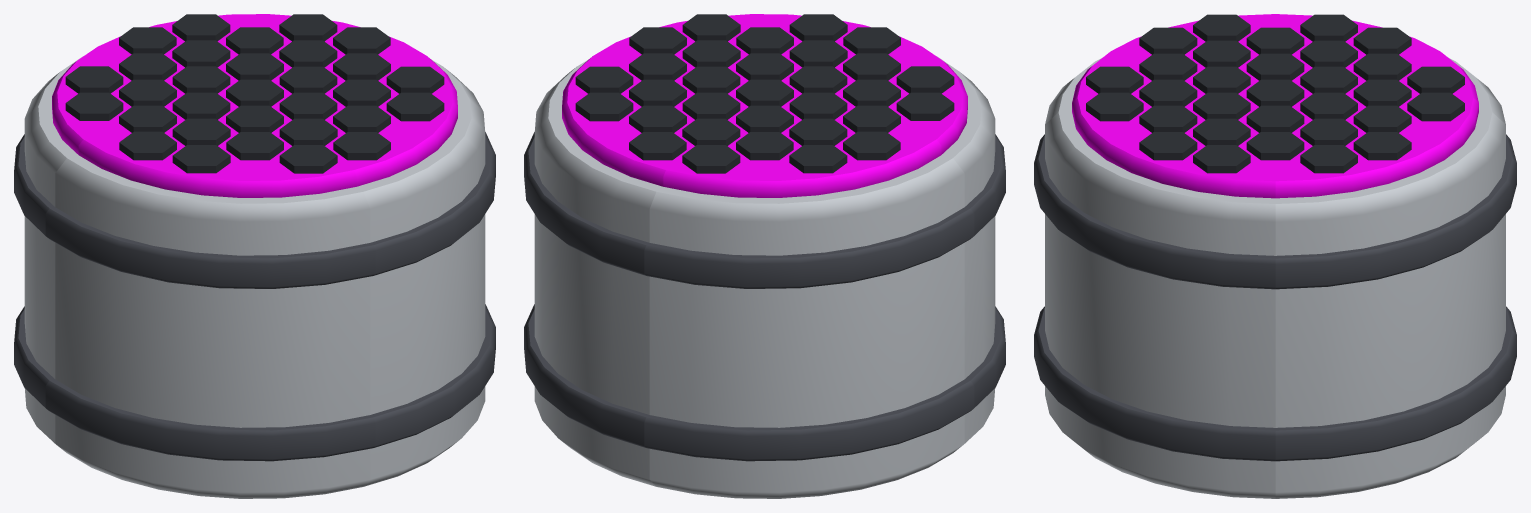
The model's file is objet_filtre_graphite.glb.
3 views of the same model, side by side, from view 1: azimuth 30°, elevation 25°; view 2: azimuth 150°, elevation 25°; view 3: azimuth 270°, elevation 25° (orthographic).
Visible parts, largest first — view 1: filtre_composant_clair.002, filtre_composant.002, filtre_trame.002, filtre_teinte.002; view 2: filtre_composant_clair.002, filtre_composant.002, filtre_trame.002, filtre_teinte.002; view 3: filtre_composant_clair.002, filtre_composant.002, filtre_trame.002, filtre_teinte.002.
Boxes of the visible parts, left/top/right/bottom form: filtre_composant_clair.002: left=24, top=56, right=485, bottom=498; filtre_composant.002: left=65, top=14, right=444, bottom=173; filtre_trame.002: left=14, top=132, right=495, bottom=461; filtre_teinte.002: left=52, top=14, right=457, bottom=197; filtre_composant_clair.002: left=534, top=56, right=995, bottom=498; filtre_composant.002: left=575, top=14, right=954, bottom=173; filtre_trame.002: left=524, top=132, right=1005, bottom=461; filtre_teinte.002: left=562, top=14, right=967, bottom=197; filtre_composant_clair.002: left=1045, top=58, right=1505, bottom=498; filtre_composant.002: left=1086, top=14, right=1464, bottom=173; filtre_trame.002: left=1034, top=134, right=1516, bottom=461; filtre_teinte.002: left=1072, top=14, right=1478, bottom=198.
Size of the model in its own units: 0.178 by 0.129 by 0.178.
